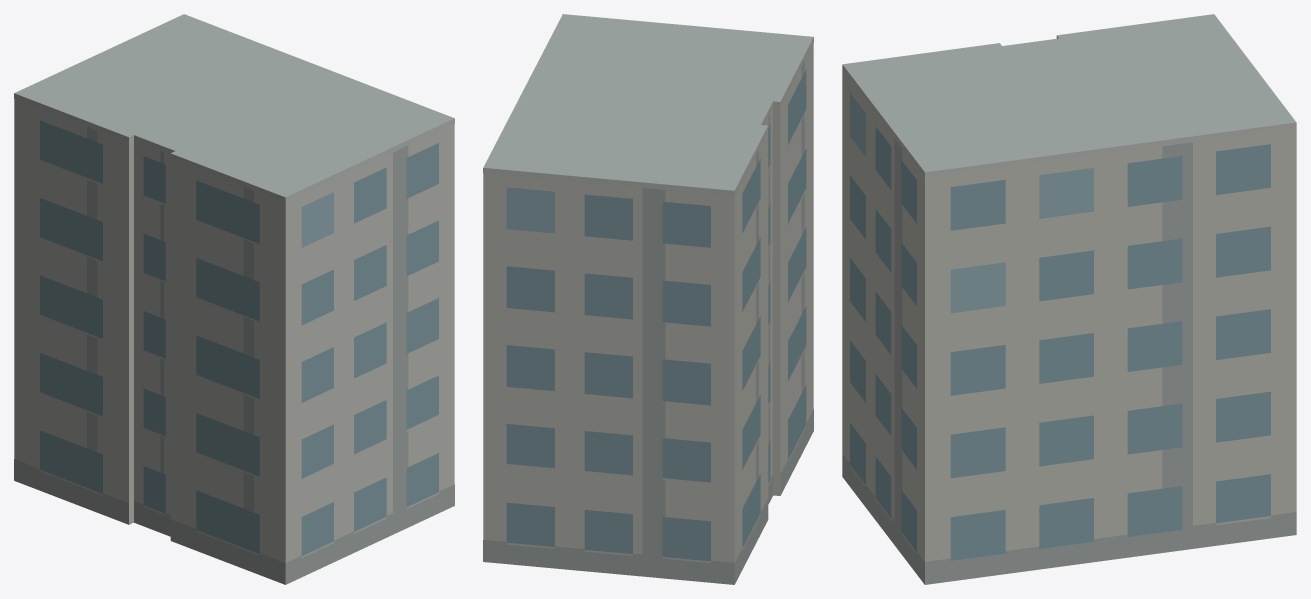
The model's file is survey-upis-32972252.glb.
3 renders of one model, left to right at view 1: azimuth 30°, elevation 25°; view 2: azimuth 150°, elevation 25°; view 3: azimuth 270°, elevation 25°, orthographic. The views are drawn at different scales.
Parts seen in each view (by area): view 1: survey-upis-32972252.tmp; view 2: survey-upis-32972252.tmp; view 3: survey-upis-32972252.tmp.
Part boxes in pixels (x1=…): survey-upis-32972252.tmp: x1=14, y1=14, x2=454, y2=584; survey-upis-32972252.tmp: x1=483, y1=14, x2=813, y2=584; survey-upis-32972252.tmp: x1=842, y1=14, x2=1296, y2=584.
Size of the model in its own units: 14.04 by 17.05 by 17.02.
